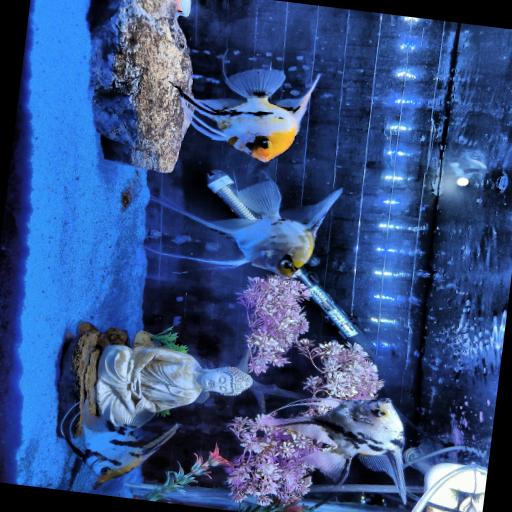Fish: (145, 181, 341, 277), (261, 398, 405, 503), (173, 69, 318, 161), (64, 404, 178, 489)
